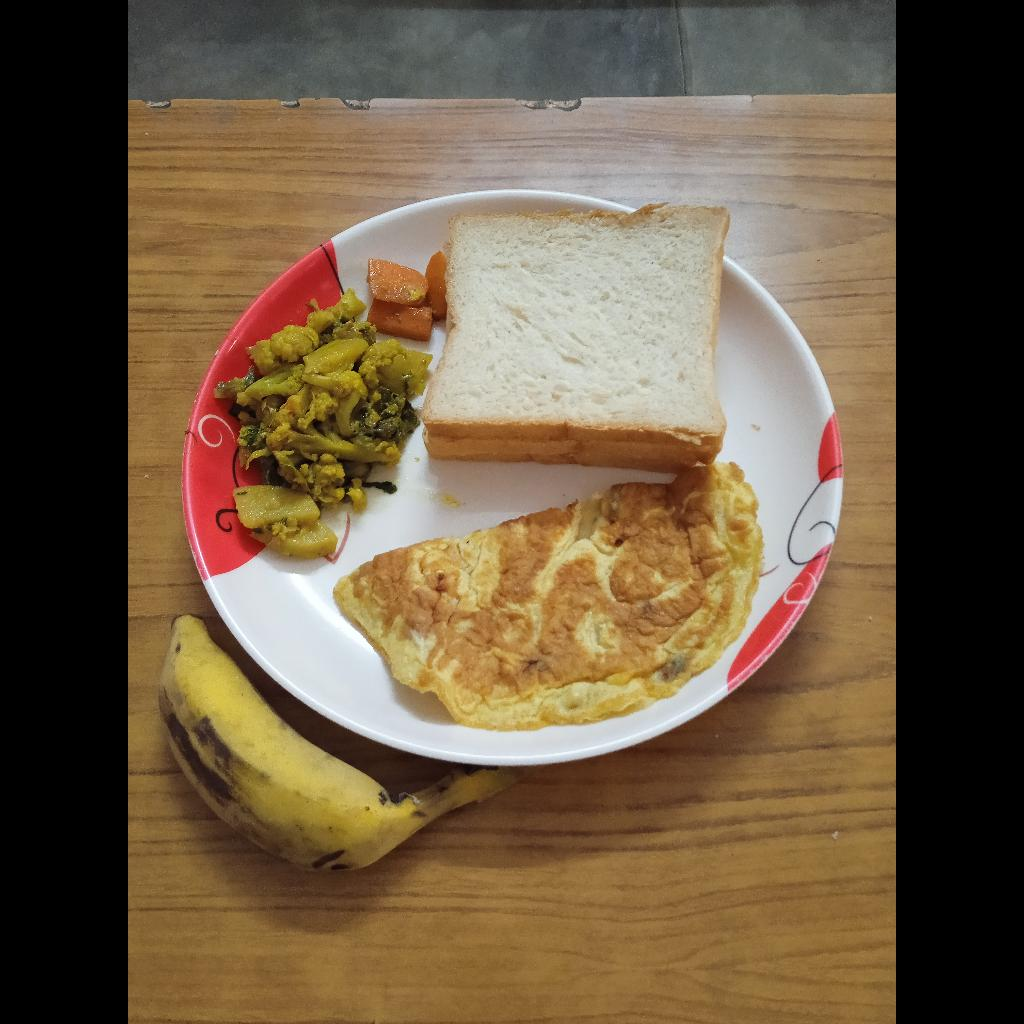banana: (158, 626, 467, 870)
bread: (415, 201, 730, 464)
egg-poached: (335, 464, 756, 730)
vegetable: (225, 261, 429, 553)
